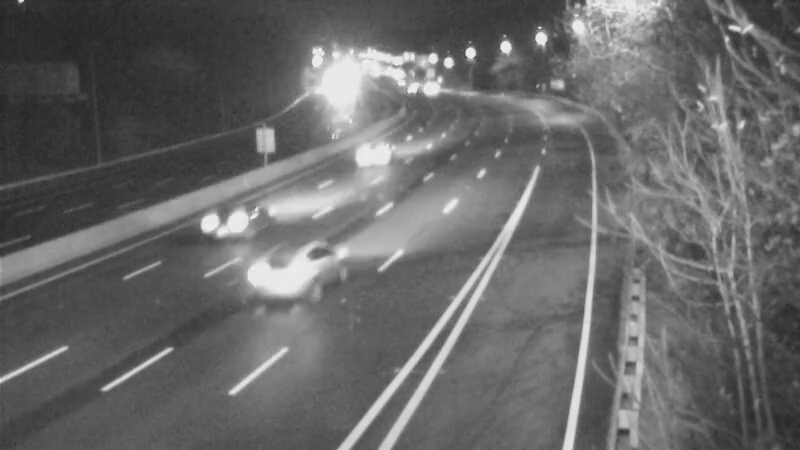vehicle: (337, 114, 417, 194), (187, 189, 267, 269), (240, 233, 320, 313), (402, 71, 452, 121), (382, 62, 432, 112)
